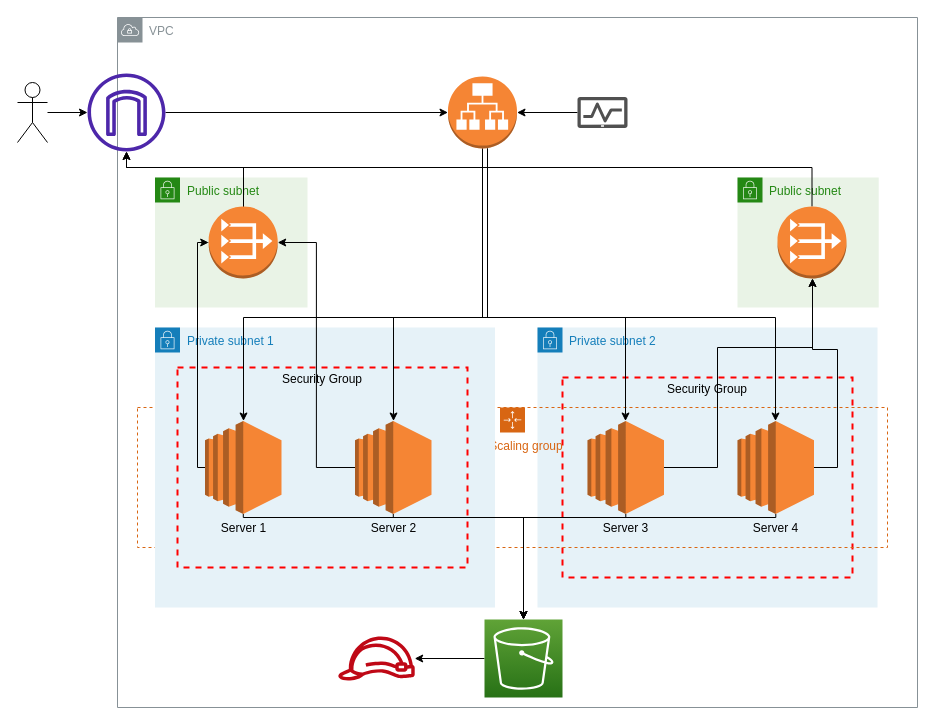
The diagram is 935 pixels wide and 725 high, and some of its shapes have lost their labels. Each missing label, with the centre of its shape:
"Actor" goes at [32,112].
"LB Health Checker" goes at [602,112].
